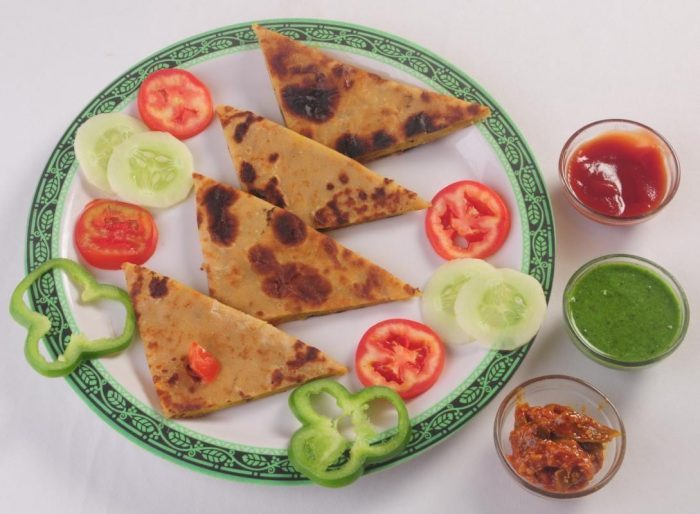aloo_paratha: (127, 16, 494, 416)
